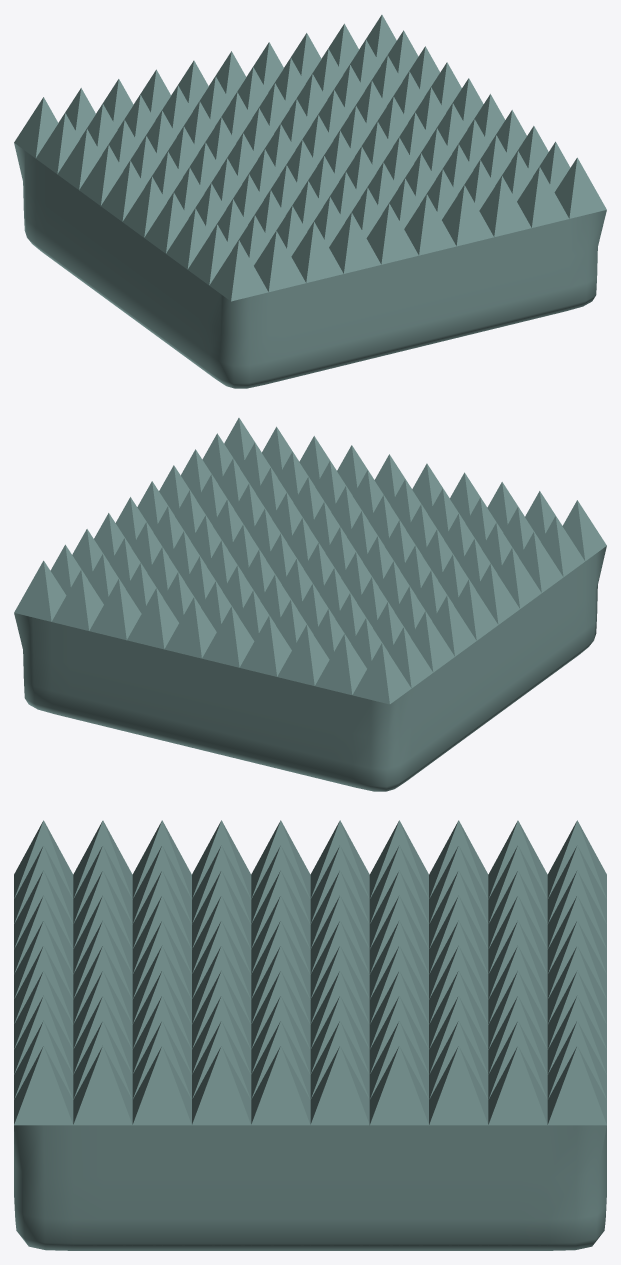
Rendered from spikes.glb.
The picture shows the model from 3 angles, top to bottom: view 1: azimuth 30°, elevation 25°; view 2: azimuth 150°, elevation 25°; view 3: azimuth 270°, elevation 25°; orthographic projection. The views are drawn at different scales.
Parts seen in each view (by area): view 1: Spikes; view 2: Spikes; view 3: Spikes.
Boxes of the visible parts, box(x1,y1,x2,y2) form: Spikes: box(14, 15, 606, 388); Spikes: box(14, 418, 606, 791); Spikes: box(14, 820, 606, 1250).
Size of the model in its own units: 2 by 0.75 by 2.
